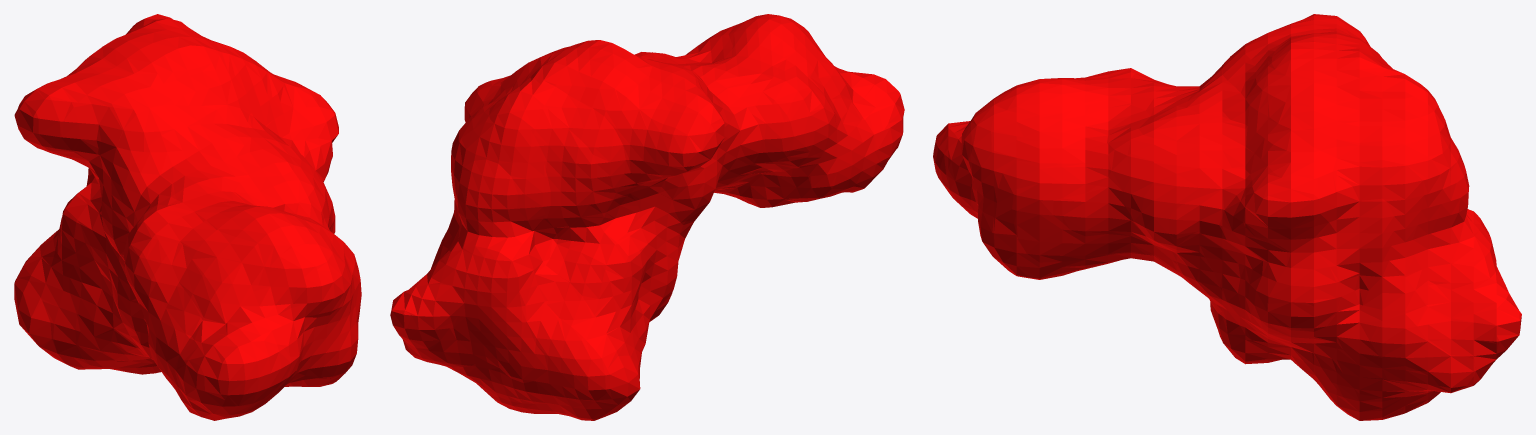
The model's file is yadG_coarse.dae.
3 renders of one model, left to right at view 1: azimuth 30°, elevation 25°; view 2: azimuth 150°, elevation 25°; view 3: azimuth 270°, elevation 25°, orthographic. The views are drawn at different scales.
Visible parts, largest first — view 1: yadG; view 2: yadG; view 3: yadG.
Boxes of the visible parts, x1,y1,x2,y2 form: yadG: (14,14,361,420); yadG: (390,14,904,420); yadG: (933,14,1521,420).
Bounding box in the file's own units: 46.32 × 53.49 × 81.63.
